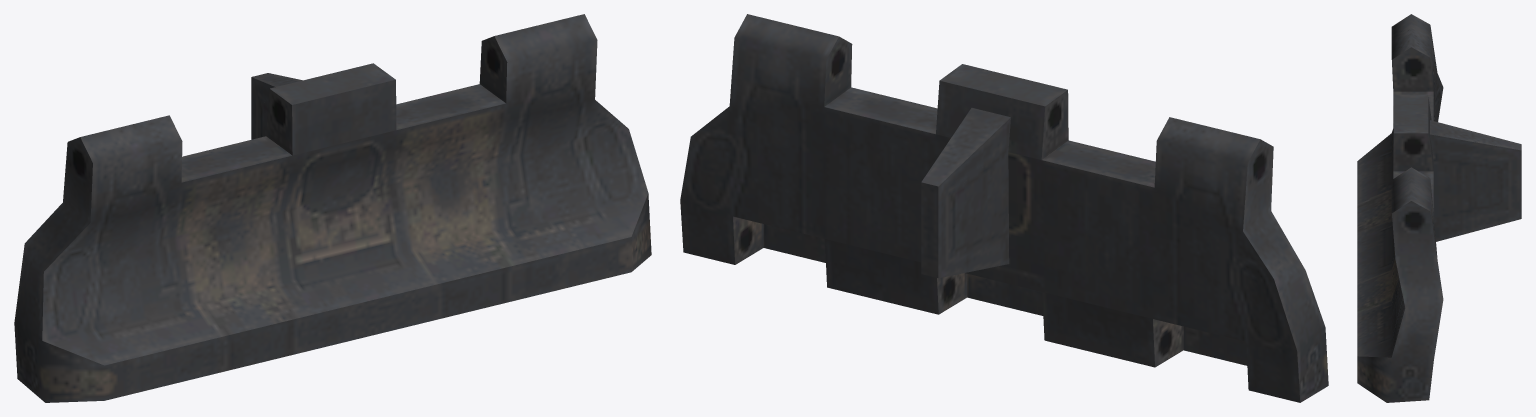
3 views of the same model, side by side, from view 1: azimuth 30°, elevation 25°; view 2: azimuth 150°, elevation 25°; view 3: azimuth 270°, elevation 25° (orthographic). The views are drawn at different scales.
Visible parts, largest first — view 1: set_0_group_0; view 2: set_0_group_0; view 3: set_0_group_0.
Boxes of the visible parts, x1,y1,x2,y2 form: set_0_group_0: (14, 14, 651, 402); set_0_group_0: (680, 14, 1328, 402); set_0_group_0: (1357, 14, 1521, 402).
Size of the model in its own units: 0.3901 by 0.1486 by 0.1208.
1 material, 1 textured.
